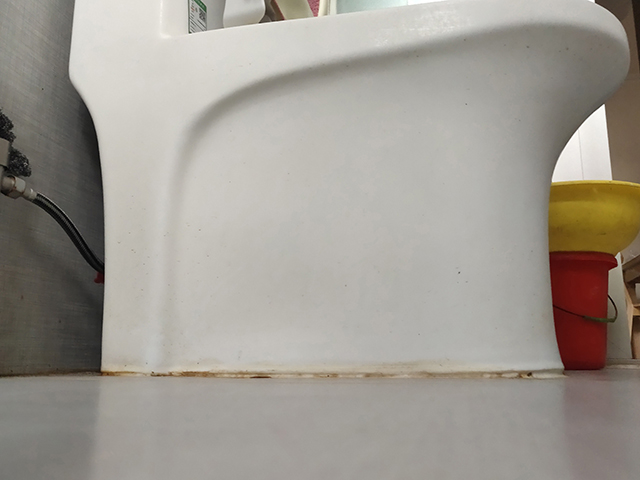closestool: (65, 1, 633, 377)
